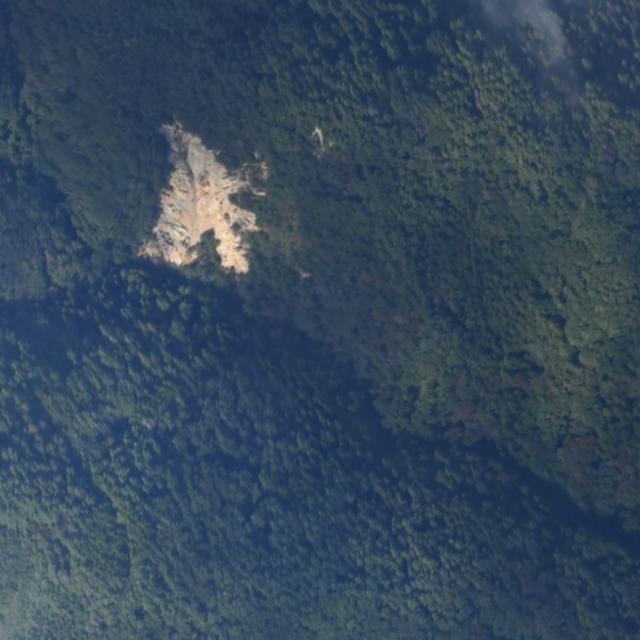landslide: (138, 122, 268, 273)
